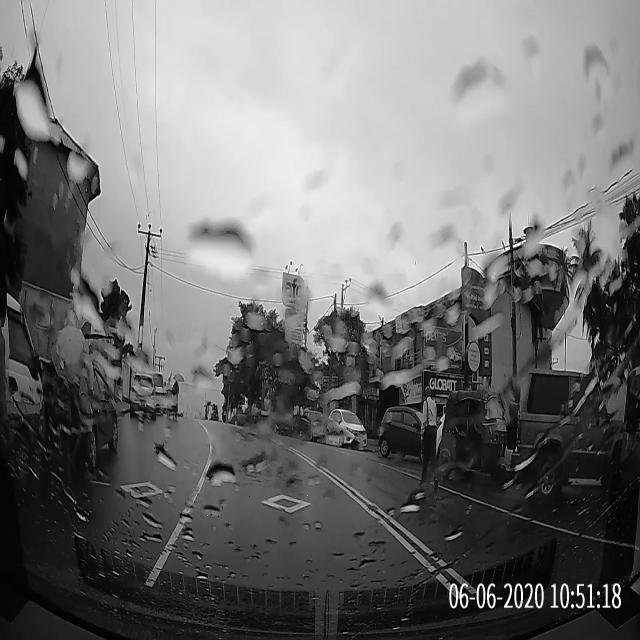diamond: (181, 493, 373, 517)
